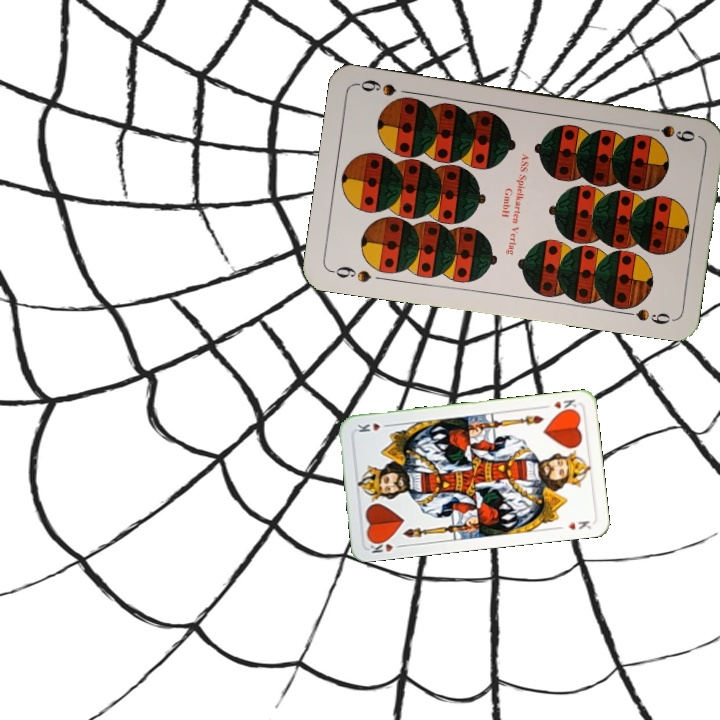HK: (365, 535, 406, 555), (540, 395, 580, 415)
S9: (640, 121, 698, 145), (327, 262, 374, 285)
